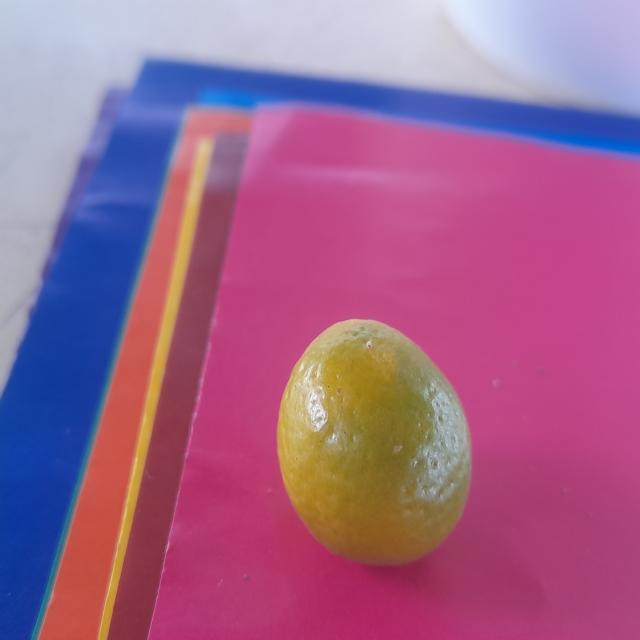greening: (271, 309, 471, 570)
